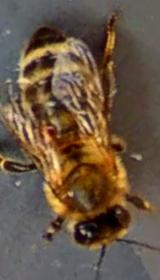varroa_mite: (34, 114, 64, 148)
